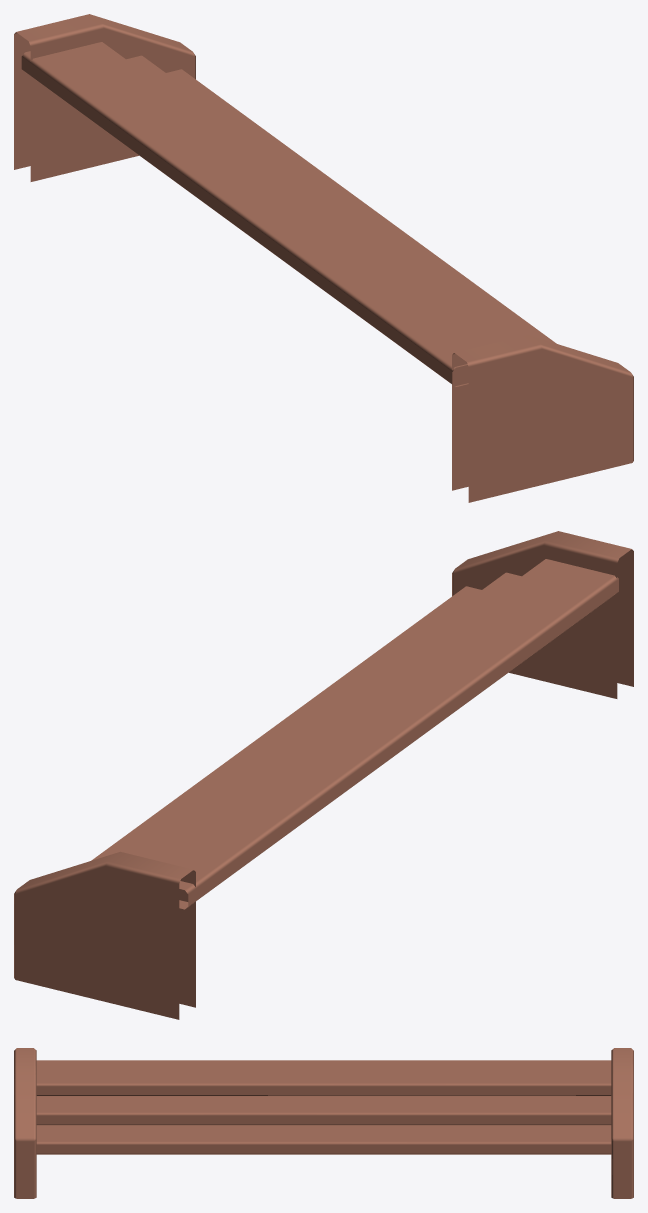
File: BoardWalkStairs.fbx
3 views of the same model, one above another, from view 1: azimuth 30°, elevation 25°; view 2: azimuth 150°, elevation 25°; view 3: azimuth 270°, elevation 25° (orthographic). The views are drawn at different scales.
Visible parts, largest first — view 1: BoardWalkStairs; view 2: BoardWalkStairs; view 3: BoardWalkStairs.
Boxes of the visible parts, <box> form: BoardWalkStairs: <box>14,14,633,502</box>; BoardWalkStairs: <box>14,531,633,1019</box>; BoardWalkStairs: <box>14,1048,633,1198</box>.
Bounding box in the file's own units: 150 × 119 × 706.
